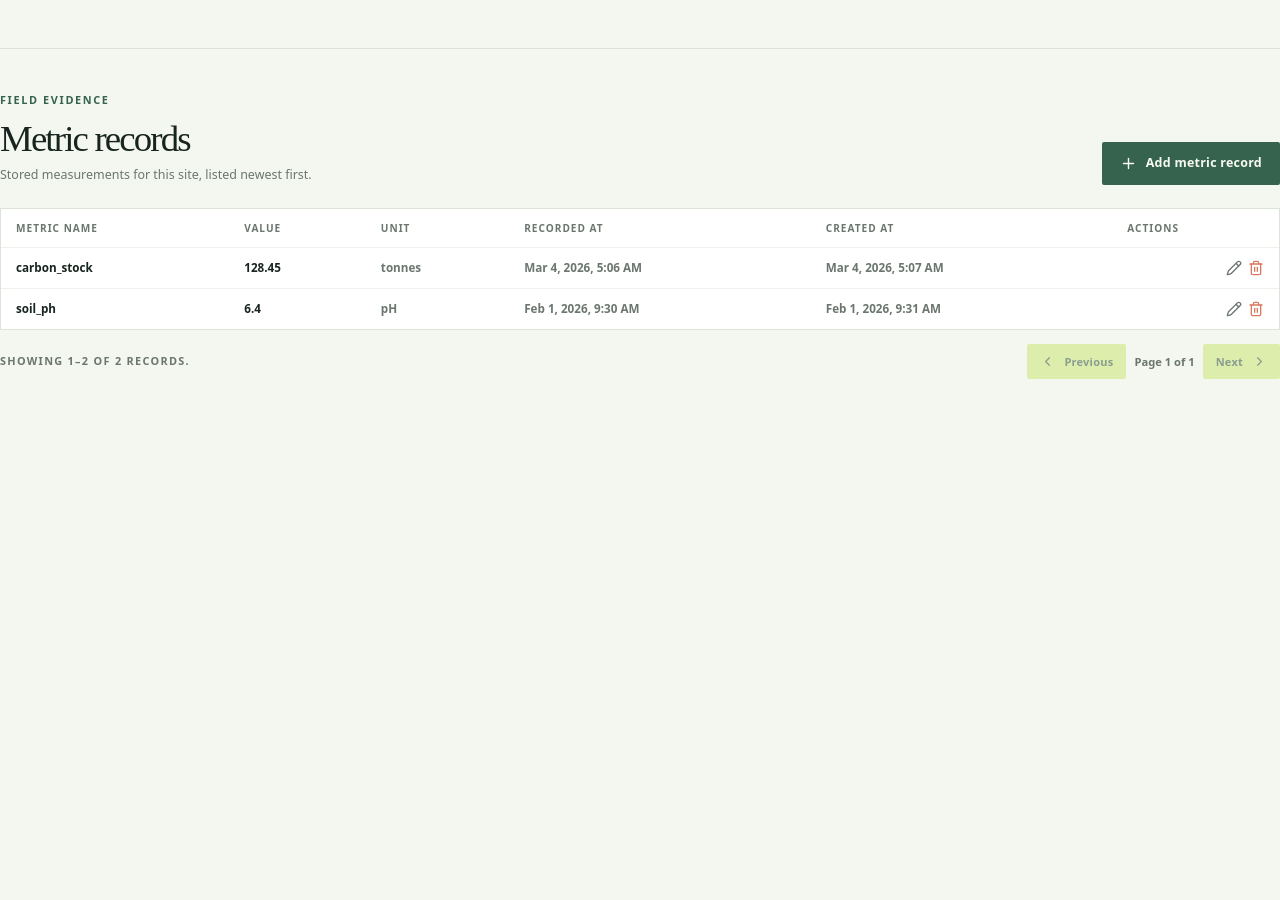
SiteMetricRecords actions › does not delete anything when the confirmation is cancelled
Check: the text "carbon_stock" is shown, box [16,260,93,275]
Click the button named "Delete carbon_stock record".
click(1256, 268)  # box [1248,260,1264,276]
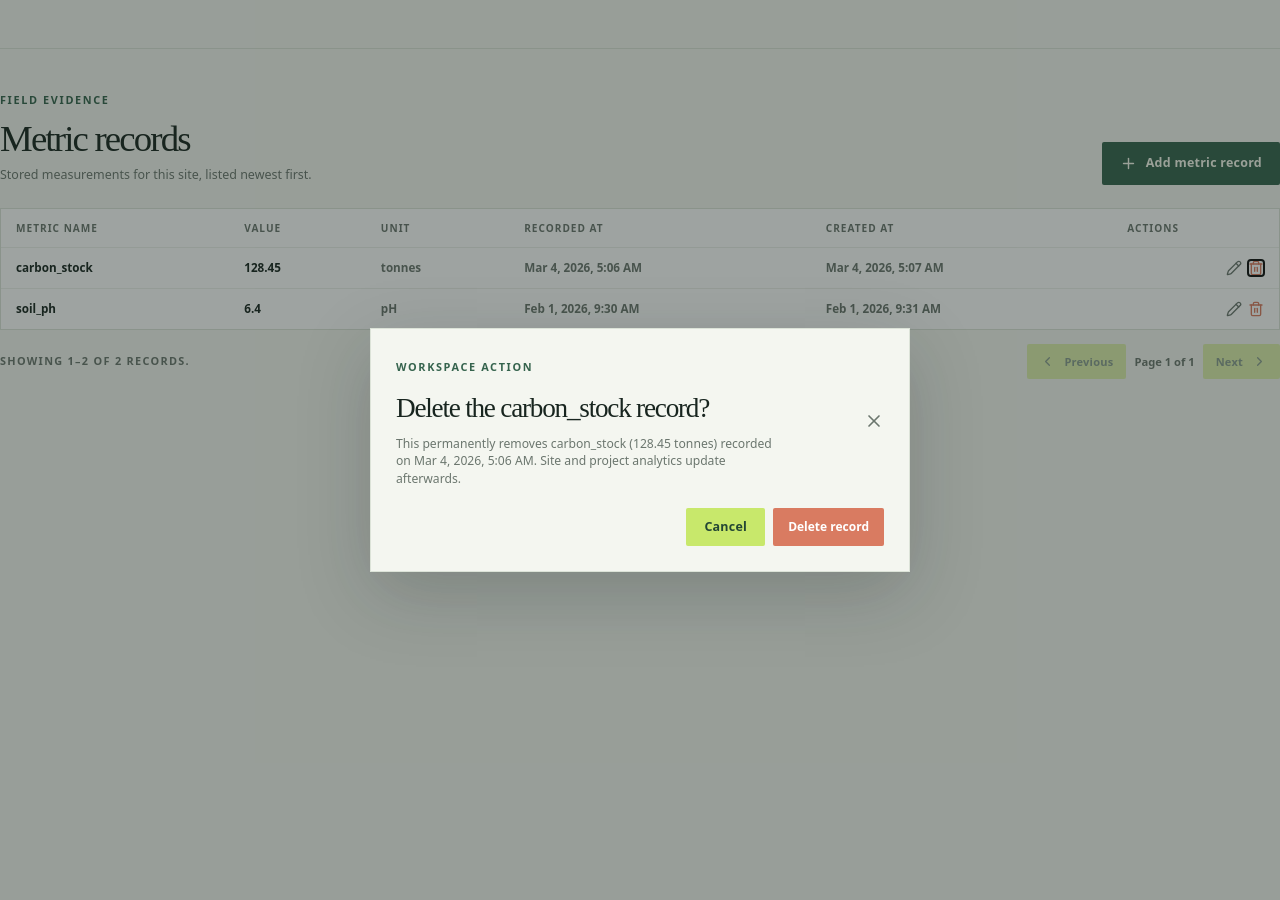
Click the button "Cancel".
click(726, 527)  # box [686,508,765,546]
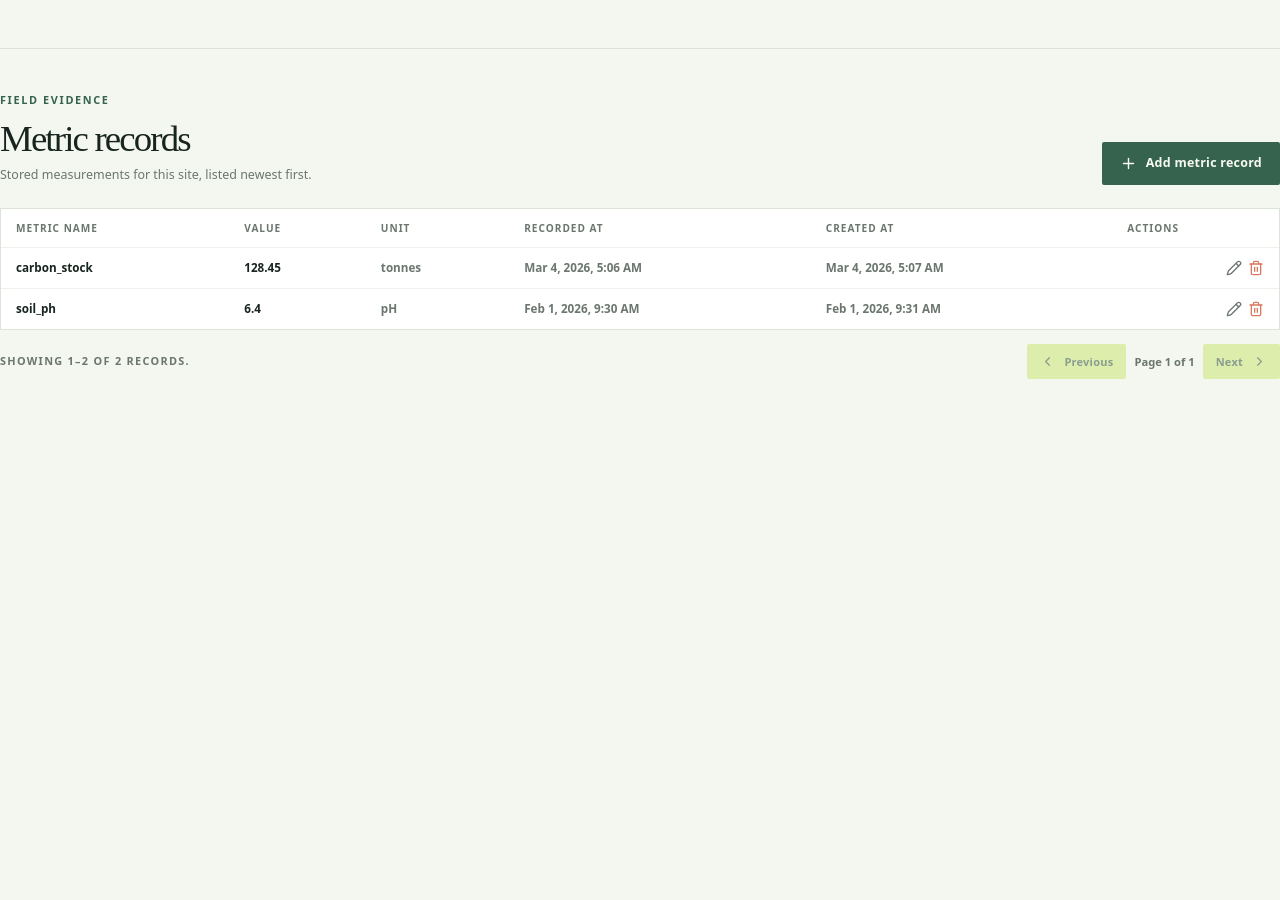
Check: the text "carbon_stock" is shown, box [16,260,93,275]
Check: the dialog is gone
